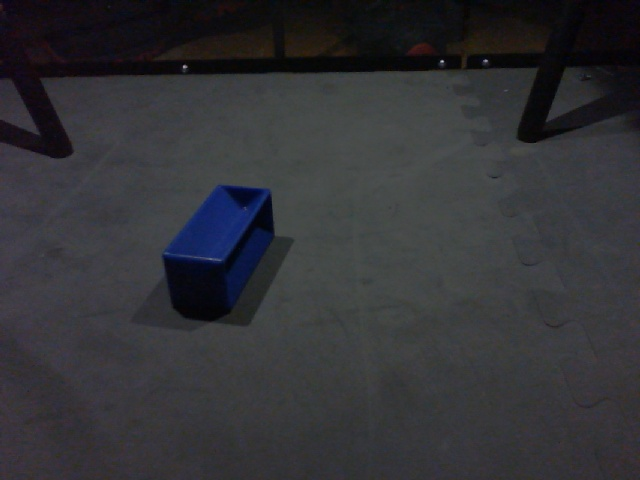BlueSample: (160, 180, 280, 319)
